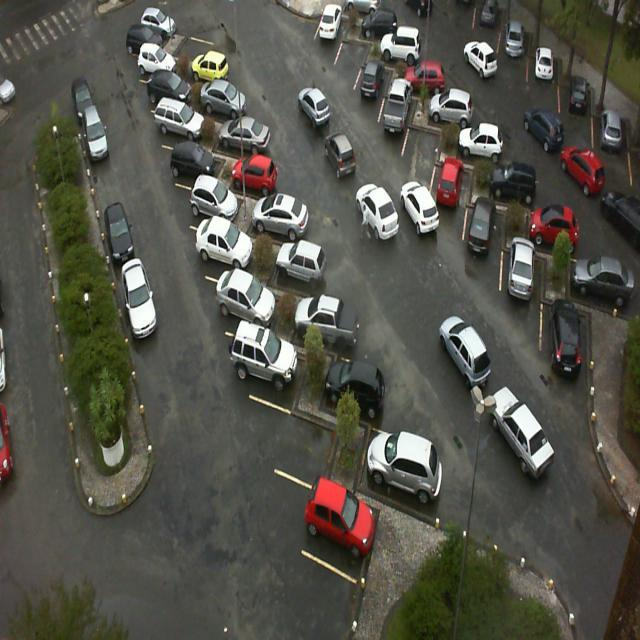space-empty: (271, 390, 348, 479), (400, 122, 442, 182), (335, 40, 372, 94), (175, 31, 220, 68)
space-occupied: (304, 468, 388, 582), (317, 353, 388, 431), (365, 425, 432, 507), (245, 326, 312, 406), (223, 270, 286, 343), (302, 288, 362, 358), (272, 235, 337, 297), (570, 260, 630, 322), (542, 303, 591, 374), (204, 224, 262, 281), (254, 192, 315, 246), (192, 176, 248, 234), (237, 148, 295, 200), (533, 205, 585, 263), (468, 198, 507, 272), (503, 241, 543, 312), (202, 78, 258, 127), (496, 165, 552, 214), (171, 139, 224, 188), (431, 163, 472, 225), (158, 101, 207, 151), (464, 124, 514, 170), (315, 9, 352, 68), (380, 92, 416, 152), (222, 117, 272, 160), (410, 61, 458, 104), (354, 63, 392, 116), (151, 75, 197, 116), (561, 75, 590, 136), (139, 46, 182, 87), (434, 94, 478, 134), (366, 11, 411, 48), (192, 58, 237, 94), (500, 30, 532, 79), (529, 50, 560, 100), (389, 38, 428, 74)
